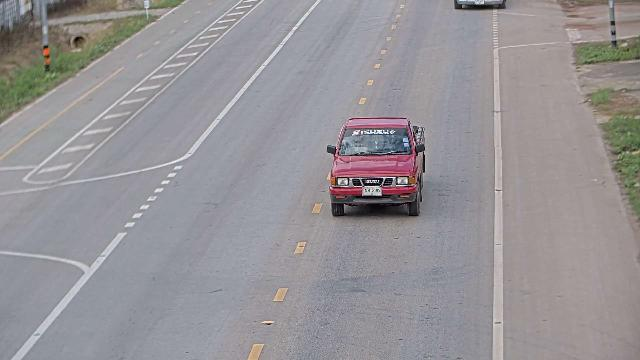bus: (454, 0, 506, 9)
pickup-truck: (325, 116, 426, 217)
